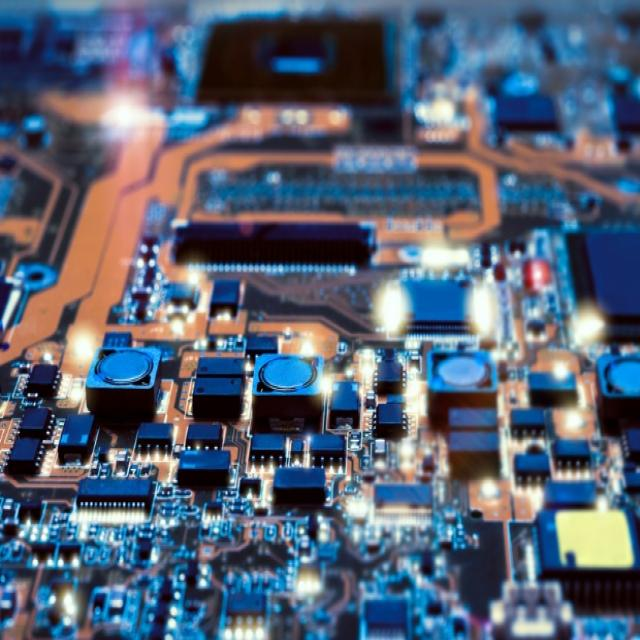Hazard: (23, 87, 640, 630)
